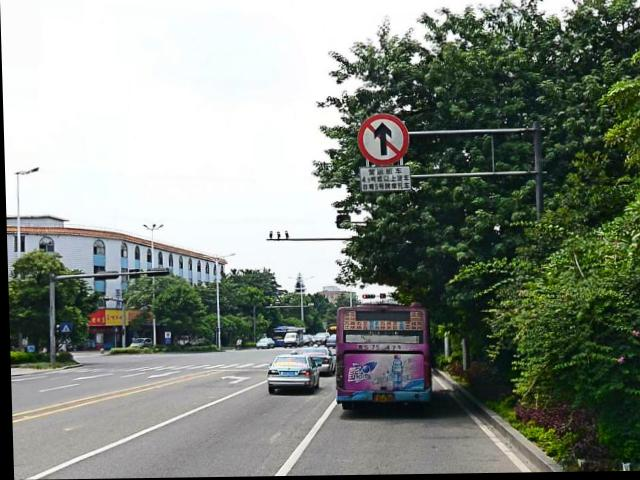not_go_straight: (354, 113, 408, 166)
